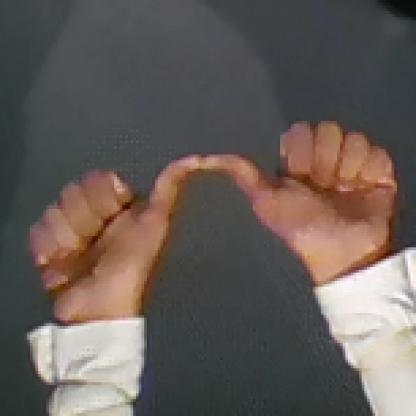A: (11, 110, 400, 298)
